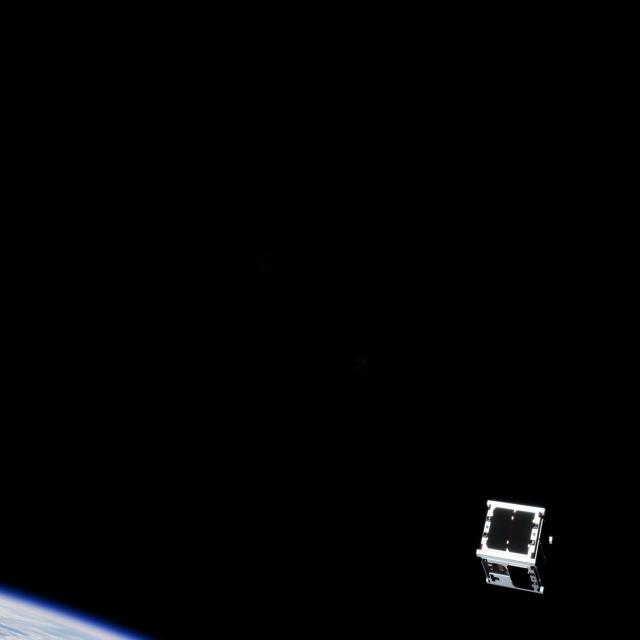satellite: (471, 500, 562, 605)
